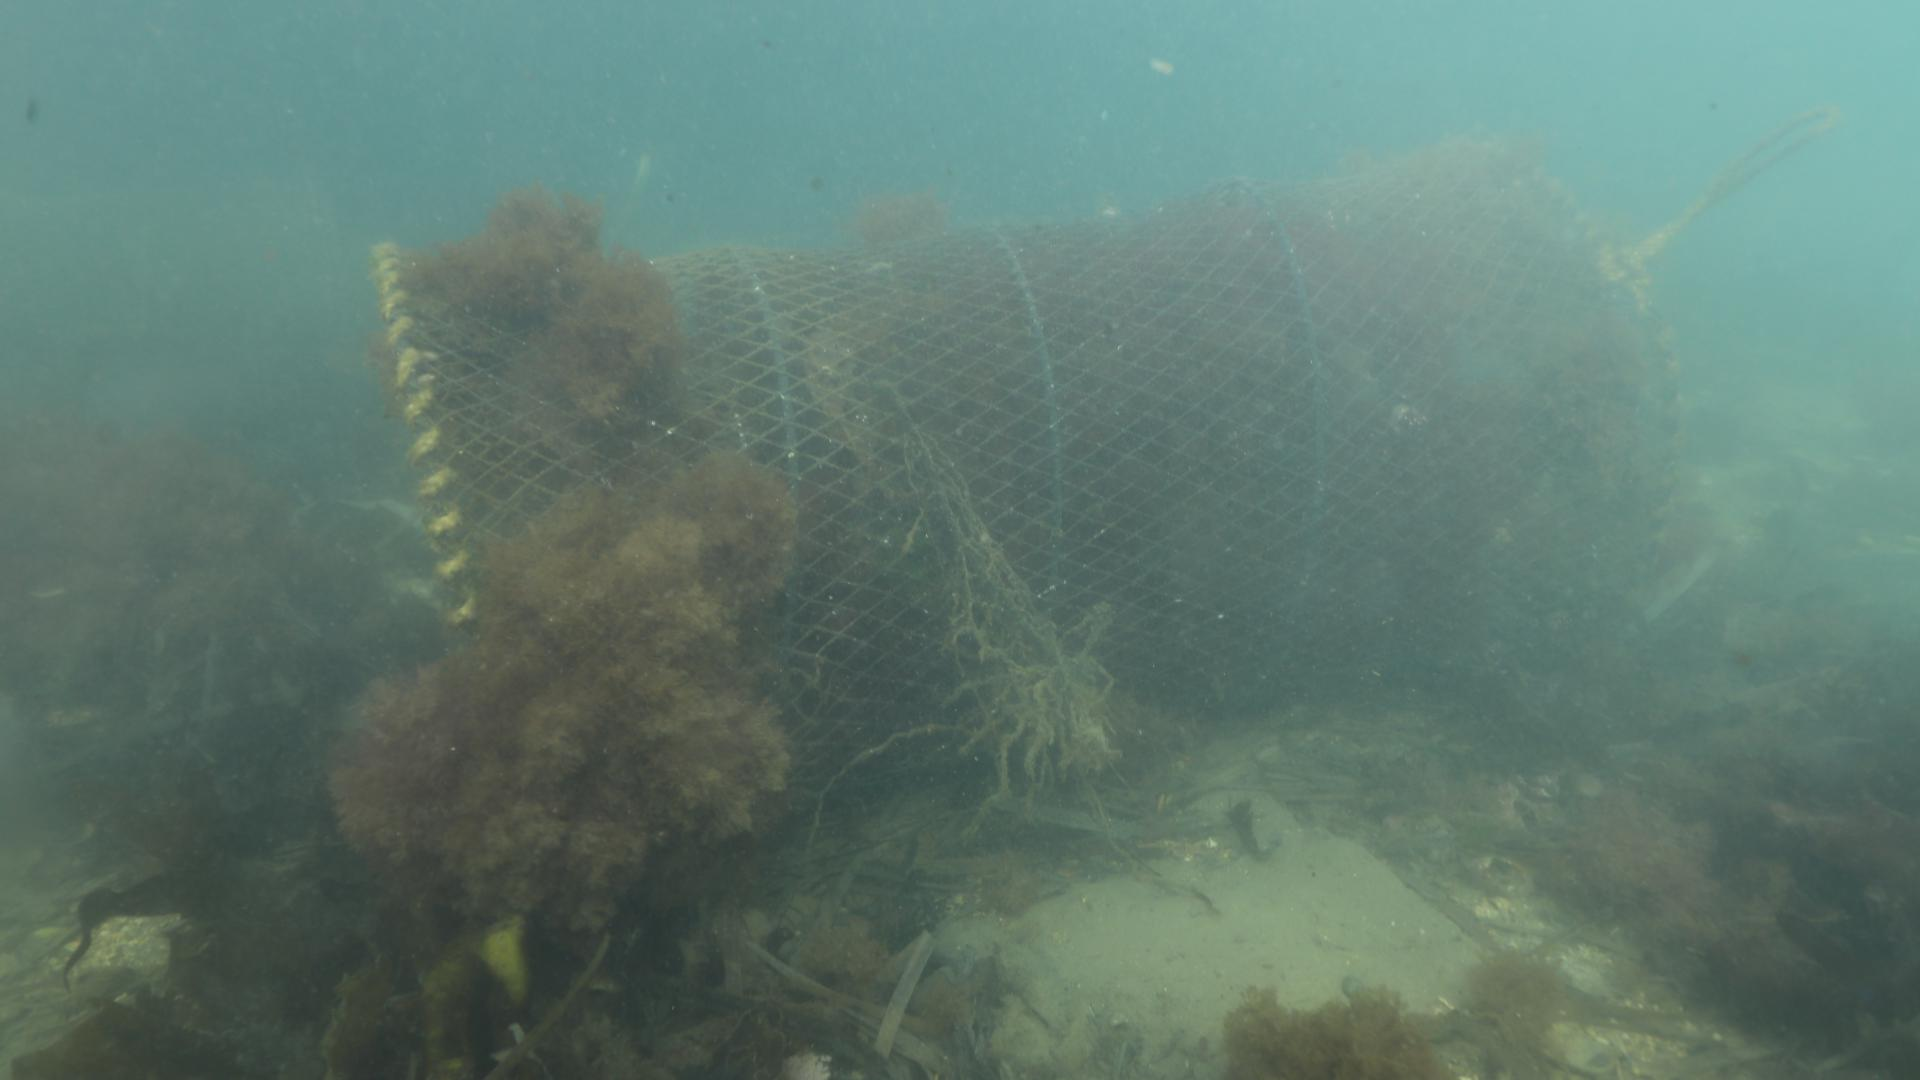bundle of ropes: (1625, 105, 1842, 280)
spring fish trap: (371, 135, 1687, 855)
